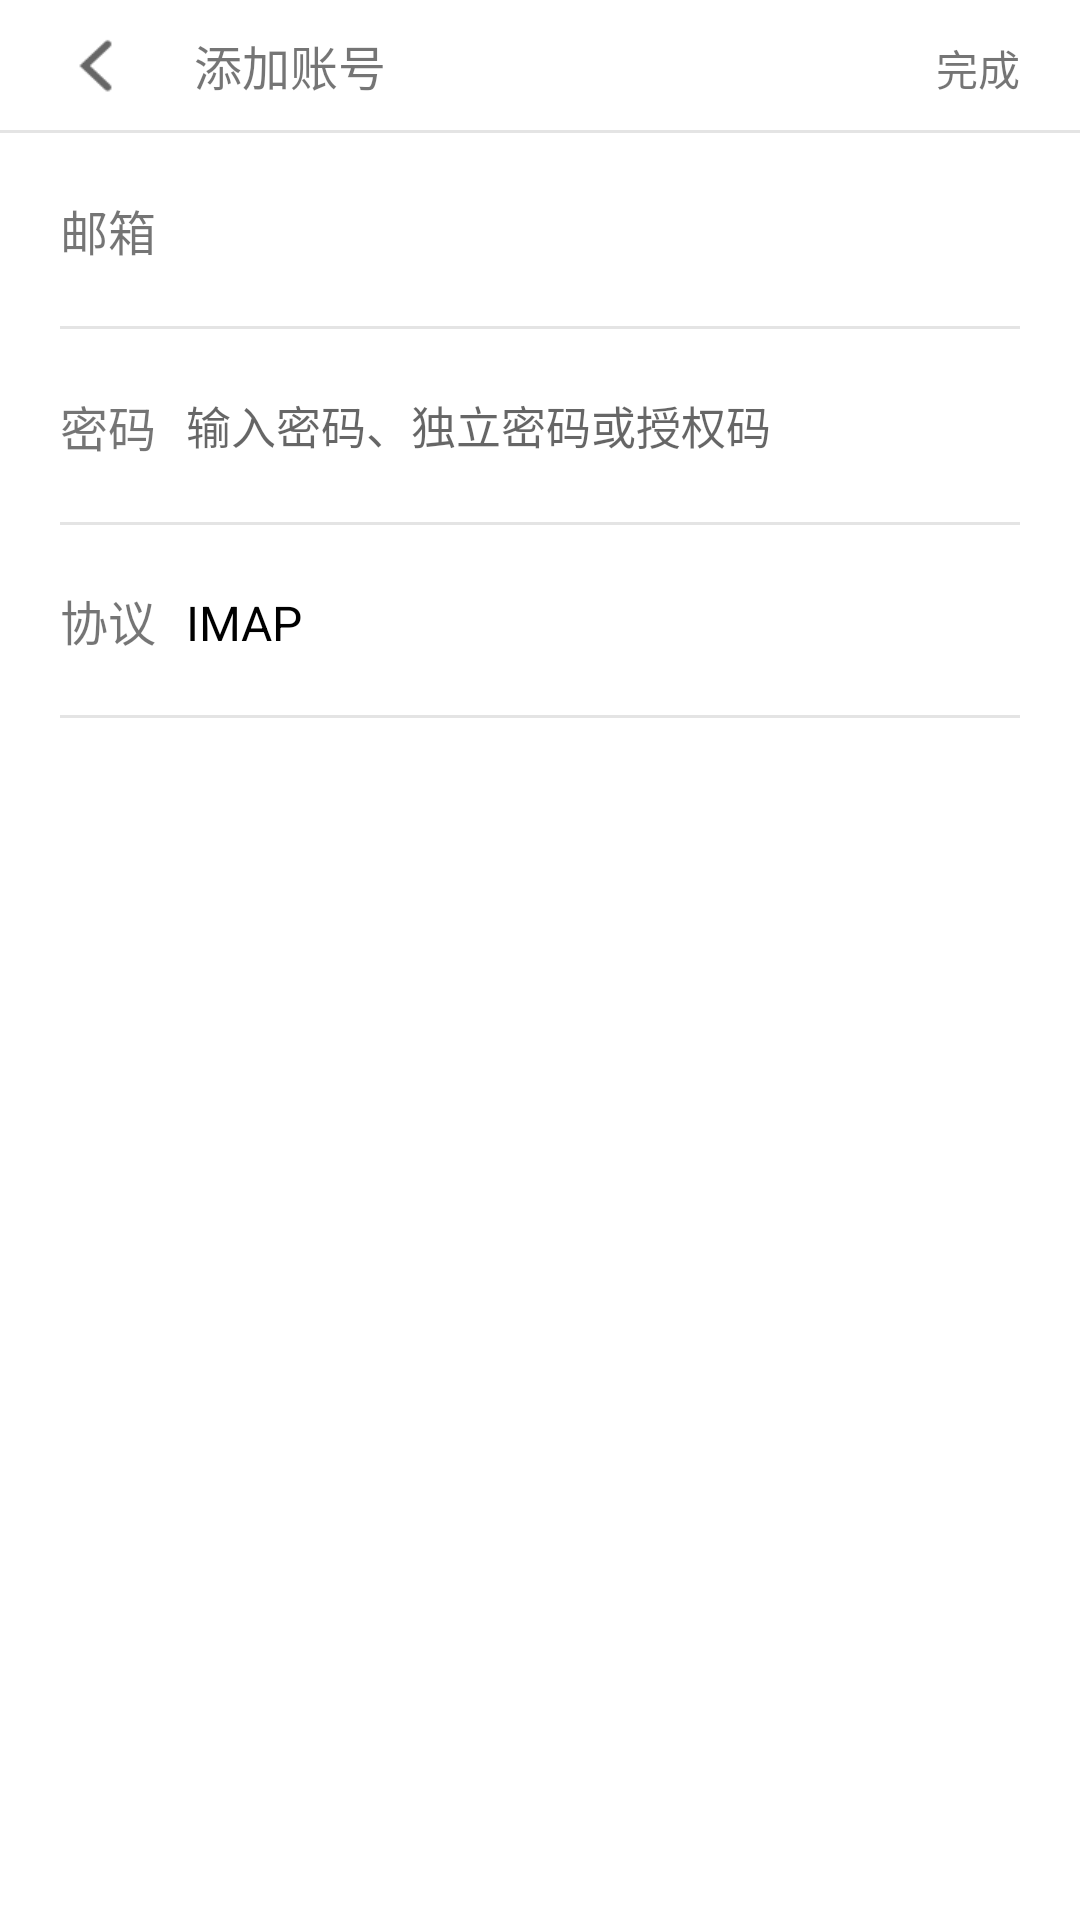

Locate icon controls on the screen. Image size 1080 x 1920, boxes as bbox=[x1, y1, x2, y2].
titlebar back: bbox=[79, 40, 112, 92]
